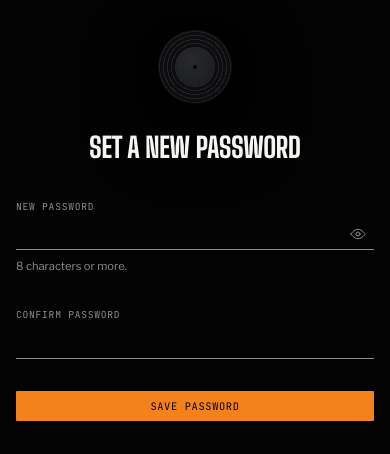
ResetPasswordRoute › a mismatched confirmation is caught before any request
Step 1. Type "long-enough-pw" into the password field labelled "new password" → (195, 236), box [16,221,374,250]
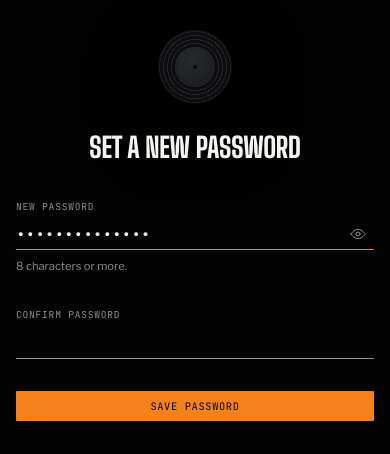
Step 2. Type "long-enough-pX" into the password field labelled "confirm password" → (195, 344), box [16,330,374,359]
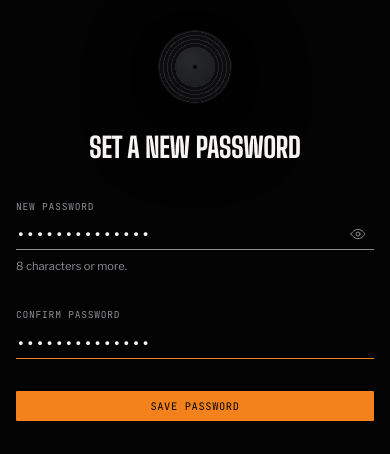
Step 3. Click the button "save password" → (195, 406), box [16,391,374,421]
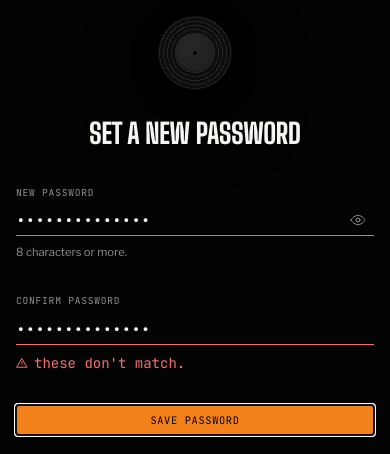
Expected: the message shows "these don't match", [34,354,185,372]
